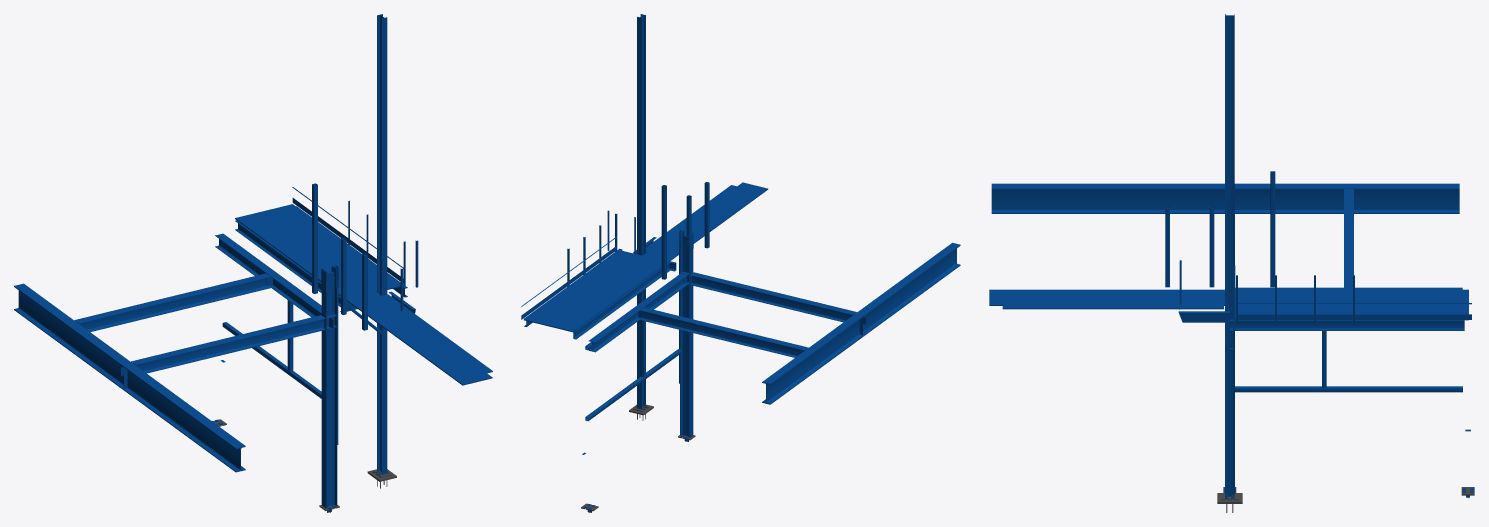
Rendered from GCC-AAV-13220-30.nwd(130).fbx.
3 renders of one model, left to right at view 1: azimuth 30°, elevation 25°; view 2: azimuth 150°, elevation 25°; view 3: azimuth 270°, elevation 25°, orthographic. The views are drawn at different scales.
Parts seen in each view (by area): view 1: Группа фасетов (×6), PANEL 2 of SBFRAMEWORK /13220-BD-001-212-5206/CS/KM2/H/+5.60, GENSEC 8 of SBFRAMEWORK /13220-BD-001-212-5206/CS/KM2/B/+5.3, GENSEC 3 of SBFRAMEWORK /13220-BD-001-212-5206/CS/KM2/B/+2.9, GENSEC 4 of SBFRAMEWORK /13220-BD-001-212-5206/CS/KM2/СТ/+5.; view 2: Группа фасетов (×6), PANEL 2 of SBFRAMEWORK /13220-BD-001-212-5206/CS/KM2/H/+5.60, GENSEC 8 of SBFRAMEWORK /13220-BD-001-212-5206/CS/KM2/B/+5.3, GENSEC 3 of SBFRAMEWORK /13220-BD-001-212-5206/CS/KM2/B/+2.9, GENSEC 4 of SBFRAMEWORK /13220-BD-001-212-5206/CS/KM2/СТ/+5., PANEL 50 of FRMWORK /GCC-AFT-DDD-13220-11-5206-KM_KM2-UNPLAC; view 3: Группа фасетов (×5), PANEL 2 of SBFRAMEWORK /13220-BD-001-212-5206/CS/KM2/H/+5.60, GENSEC 7 of SBFRAMEWORK /13220-BD-001-212-5206/CS/KM2/B/+5.3, GENSEC 3 of SBFRAMEWORK /13220-BD-001-212-5206/CS/KM2/B/+2.9, PANEL 50 of FRMWORK /GCC-AFT-DDD-13220-11-5206-KM_KM2-UNPLAC, GENSEC 4 of SBFRAMEWORK /13220-BD-001-212-5206/CS/KM2/СТ/+5..
Part boxes in pixels (x1,y1,x2,y2): Группа фасетов (×6): [14, 14, 387, 508]; PANEL 2 of SBFRAMEWORK /13220-BD-001-212-5206/CS/KM2/H/+5.60: [235, 204, 492, 385]; GENSEC 8 of SBFRAMEWORK /13220-BD-001-212-5206/CS/KM2/B/+5.3: [235, 220, 347, 307]; GENSEC 3 of SBFRAMEWORK /13220-BD-001-212-5206/CS/KM2/B/+2.9: [222, 322, 321, 398]; GENSEC 4 of SBFRAMEWORK /13220-BD-001-212-5206/CS/KM2/СТ/+5.: [312, 183, 317, 293]; Группа фасетов (×6): [589, 14, 960, 438]; PANEL 2 of SBFRAMEWORK /13220-BD-001-212-5206/CS/KM2/H/+5.60: [523, 182, 768, 332]; GENSEC 8 of SBFRAMEWORK /13220-BD-001-212-5206/CS/KM2/B/+5.3: [573, 261, 671, 339]; GENSEC 3 of SBFRAMEWORK /13220-BD-001-212-5206/CS/KM2/B/+2.9: [585, 349, 681, 421]; GENSEC 4 of SBFRAMEWORK /13220-BD-001-212-5206/CS/KM2/СТ/+5.: [661, 185, 666, 279]; PANEL 50 of FRMWORK /GCC-AFT-DDD-13220-11-5206-KM_KM2-UNPLAC: [521, 246, 616, 319]; Группа фасетов (×5): [991, 14, 1462, 497]; PANEL 2 of SBFRAMEWORK /13220-BD-001-212-5206/CS/KM2/H/+5.60: [989, 289, 1468, 320]; GENSEC 7 of SBFRAMEWORK /13220-BD-001-212-5206/CS/KM2/B/+5.3: [1230, 319, 1464, 330]; GENSEC 3 of SBFRAMEWORK /13220-BD-001-212-5206/CS/KM2/B/+2.9: [1235, 386, 1462, 392]; PANEL 50 of FRMWORK /GCC-AFT-DDD-13220-11-5206-KM_KM2-UNPLAC: [1238, 314, 1471, 319]; GENSEC 4 of SBFRAMEWORK /13220-BD-001-212-5206/CS/KM2/СТ/+5.: [1270, 171, 1275, 287].
Size of the model in its own units: 361 by 557 by 481.
